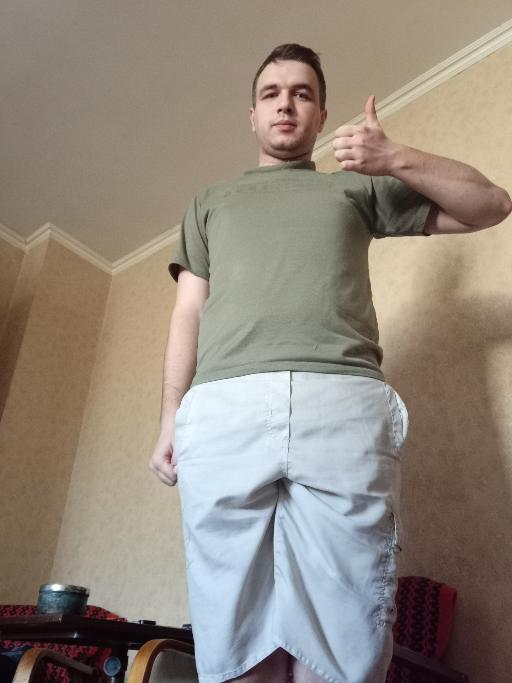like: (328, 91, 395, 181)
no_gesture: (145, 419, 184, 488)
